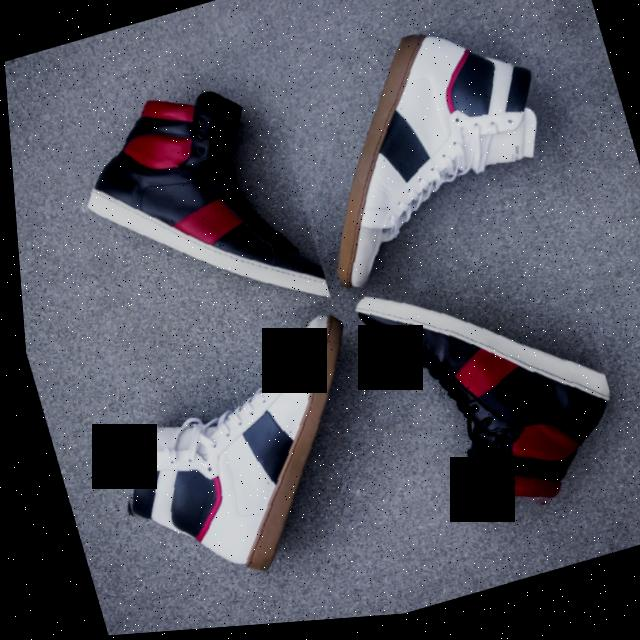shoe: (79, 311, 398, 609), (339, 242, 630, 552), (274, 10, 577, 301), (47, 66, 328, 365)
